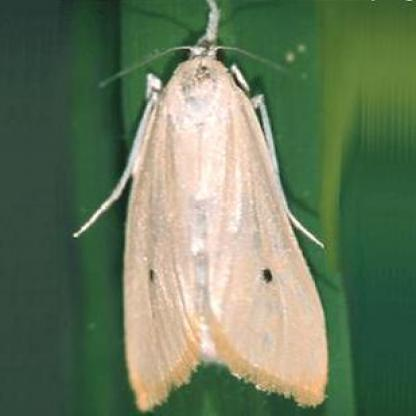stem-borer: (70, 0, 332, 416)
